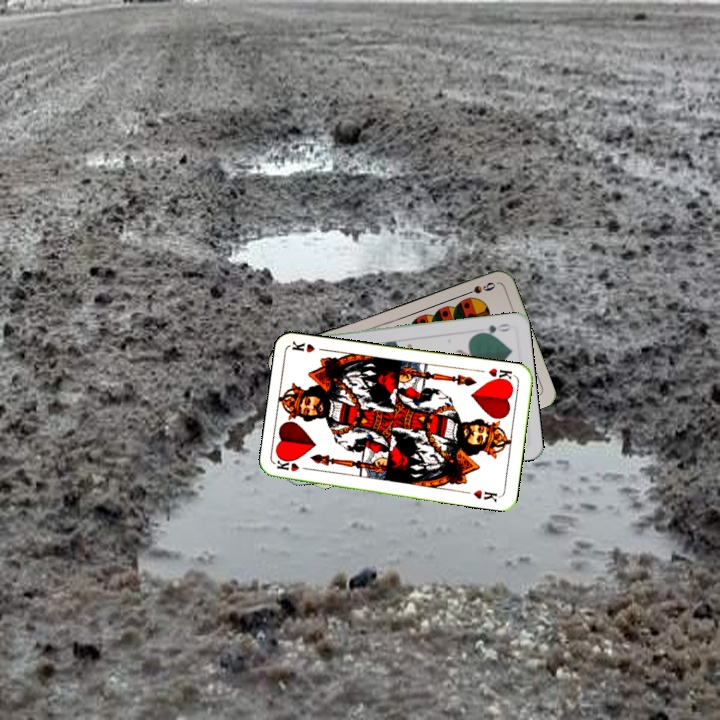GO: (473, 320, 513, 338)
HK: (273, 456, 314, 474), (484, 364, 517, 385)
S9: (459, 278, 498, 299)
